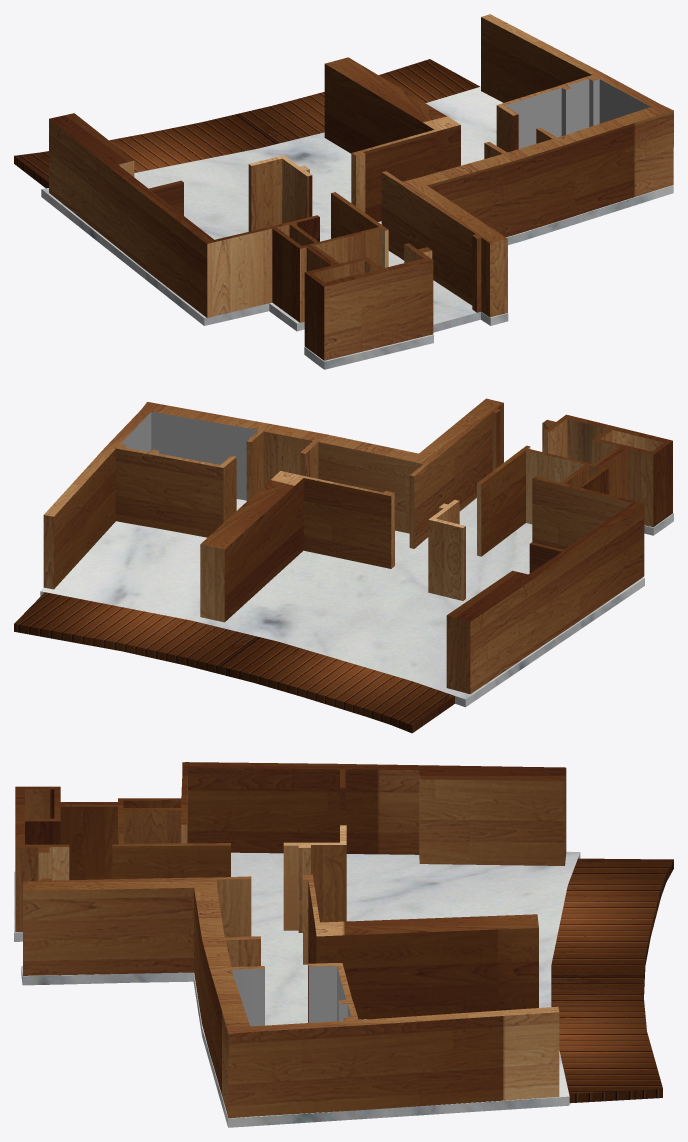
The model's file is unit1v2.fbx.
The picture shows the model from 3 angles, top to bottom: view 1: azimuth 30°, elevation 25°; view 2: azimuth 150°, elevation 25°; view 3: azimuth 270°, elevation 25°; orthographic projection. The views are drawn at different scales.
Visible parts, largest first — view 1: polySurface1, pCube1; view 2: polySurface1, pCube1; view 3: polySurface1, pCube1.
Part boxes in pixels (x1=…): polySurface1: x1=49, y1=14, x2=673, y2=360; pCube1: x1=14, y1=59, x2=673, y2=369; polySurface1: x1=43, y1=398, x2=672, y2=694; pCube1: x1=14, y1=498, x2=673, y2=733; polySurface1: x1=15, y1=762, x2=566, y2=1118; pCube1: x1=14, y1=851, x2=673, y2=1127.
Bounding box in the file's own units: 12.77 × 2.06 × 13.06.
Materials: 3 (2 with a texture image).
